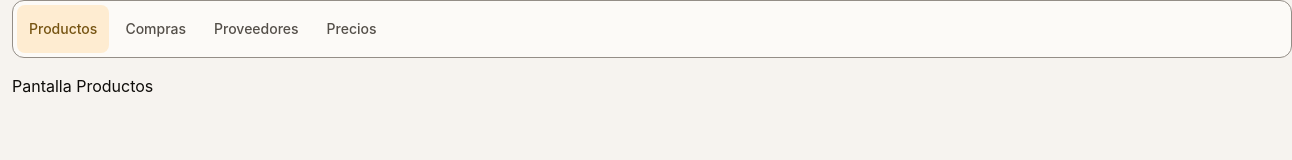
StockLayout › durante una navegación a un chunk lazy que tarda en resolver, el selector no se desmonta: mismo nodo antes y después
Step 1. Click the link "Compras" → (156, 28), box x1=125 y1=20 x2=186 y2=37
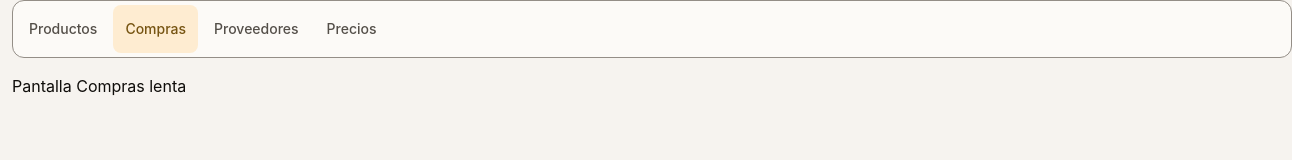
Expected: the text "Pantalla Compras lenta" is shown, x1=12 y1=76 x2=186 y2=96
